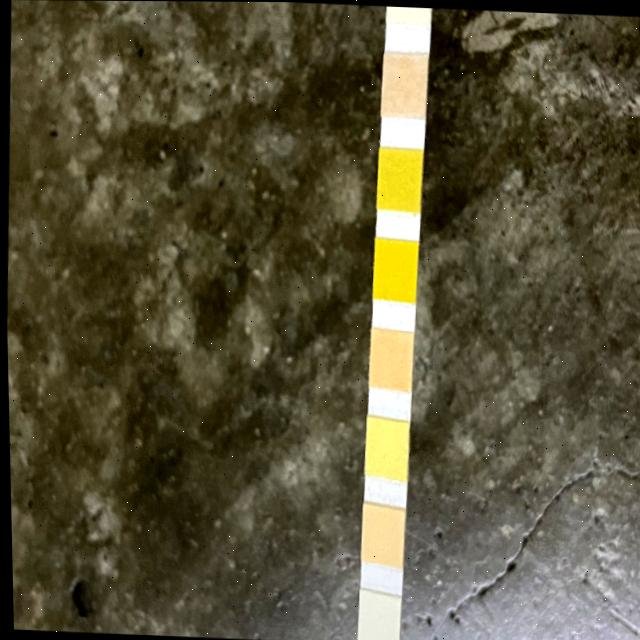Bilirubin: (391, 5, 431, 19)
Blood: (373, 238, 416, 297)
Ketone: (384, 52, 425, 117)
Nitrite: (355, 595, 395, 640)
Protein: (363, 424, 406, 477)
SpGravity: (377, 148, 420, 210)
Urobilinogen: (360, 509, 401, 560)
pH: (368, 329, 411, 388)
